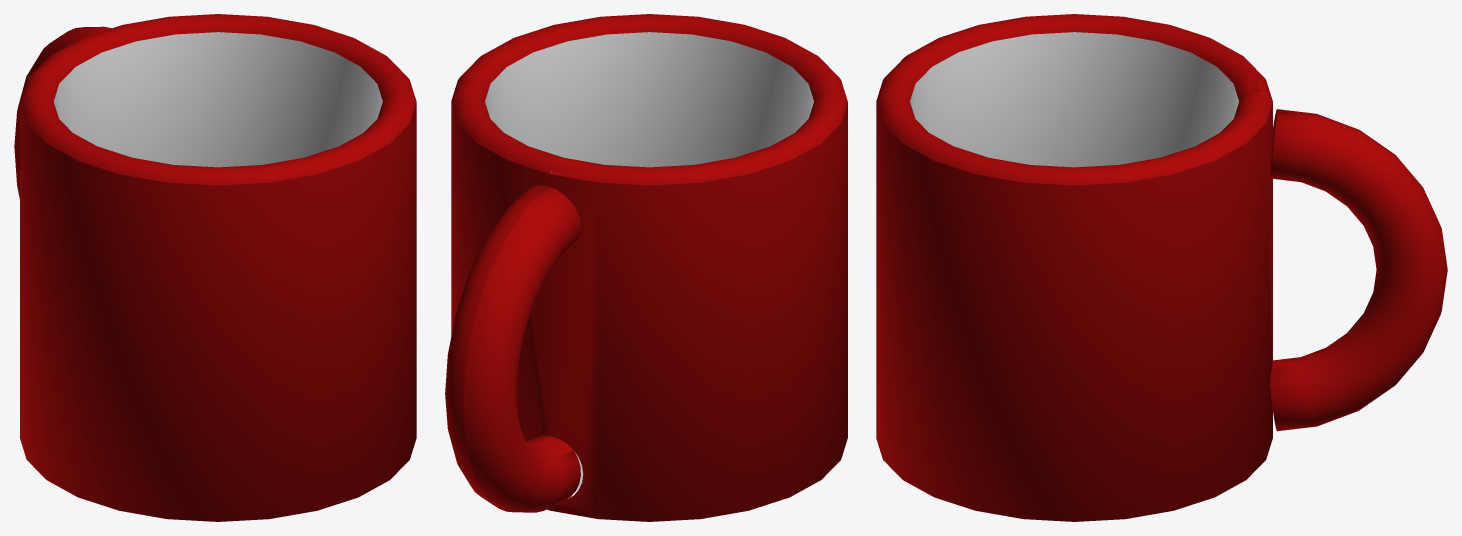
3 views of the same model, side by side, from view 1: azimuth 30°, elevation 25°; view 2: azimuth 150°, elevation 25°; view 3: azimuth 270°, elevation 25° (orthographic).
Visible parts, largest first — view 1: mesh1_mesh1-geometry, mesh1_mesh1-geometry_1; view 2: mesh1_mesh1-geometry, mesh1_mesh1-geometry_1; view 3: mesh1_mesh1-geometry, mesh1_mesh1-geometry_1.
Part boxes in pixels (bbox=[...]): mesh1_mesh1-geometry: bbox=[14, 14, 416, 521]; mesh1_mesh1-geometry_1: bbox=[53, 32, 382, 167]; mesh1_mesh1-geometry: bbox=[445, 14, 847, 521]; mesh1_mesh1-geometry_1: bbox=[485, 32, 813, 490]; mesh1_mesh1-geometry: bbox=[876, 14, 1447, 521]; mesh1_mesh1-geometry_1: bbox=[910, 32, 1265, 167].
Size of the model in its own units: 0.5 by 0.4808 by 0.7203.
